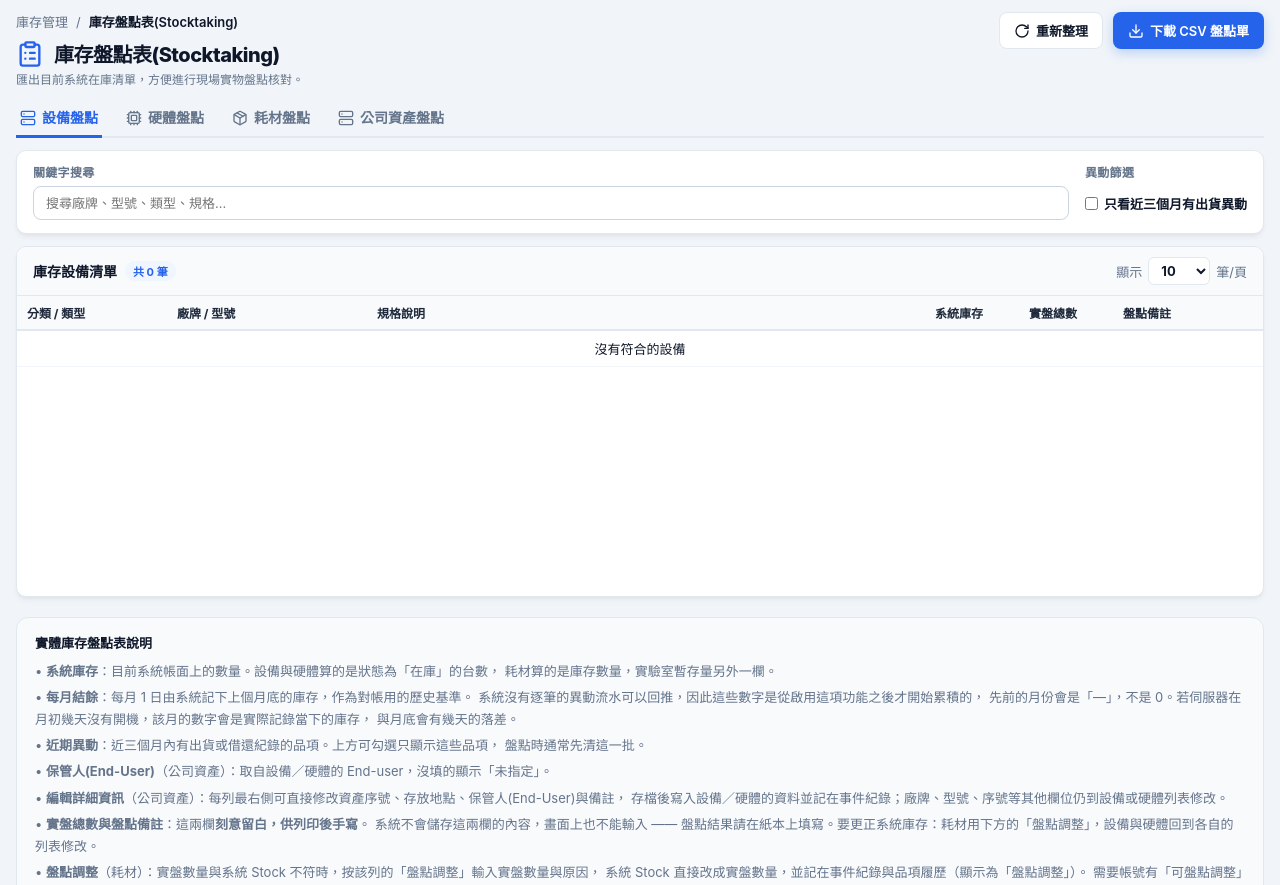
Scenario: 盤點表 > 公司資產 > 編輯詳細資訊 › 編號沒改、只改其他欄位：不查重，既有撞號也不擋
Click the text "公司資產盤點": (391, 118) [338,109,444,126]
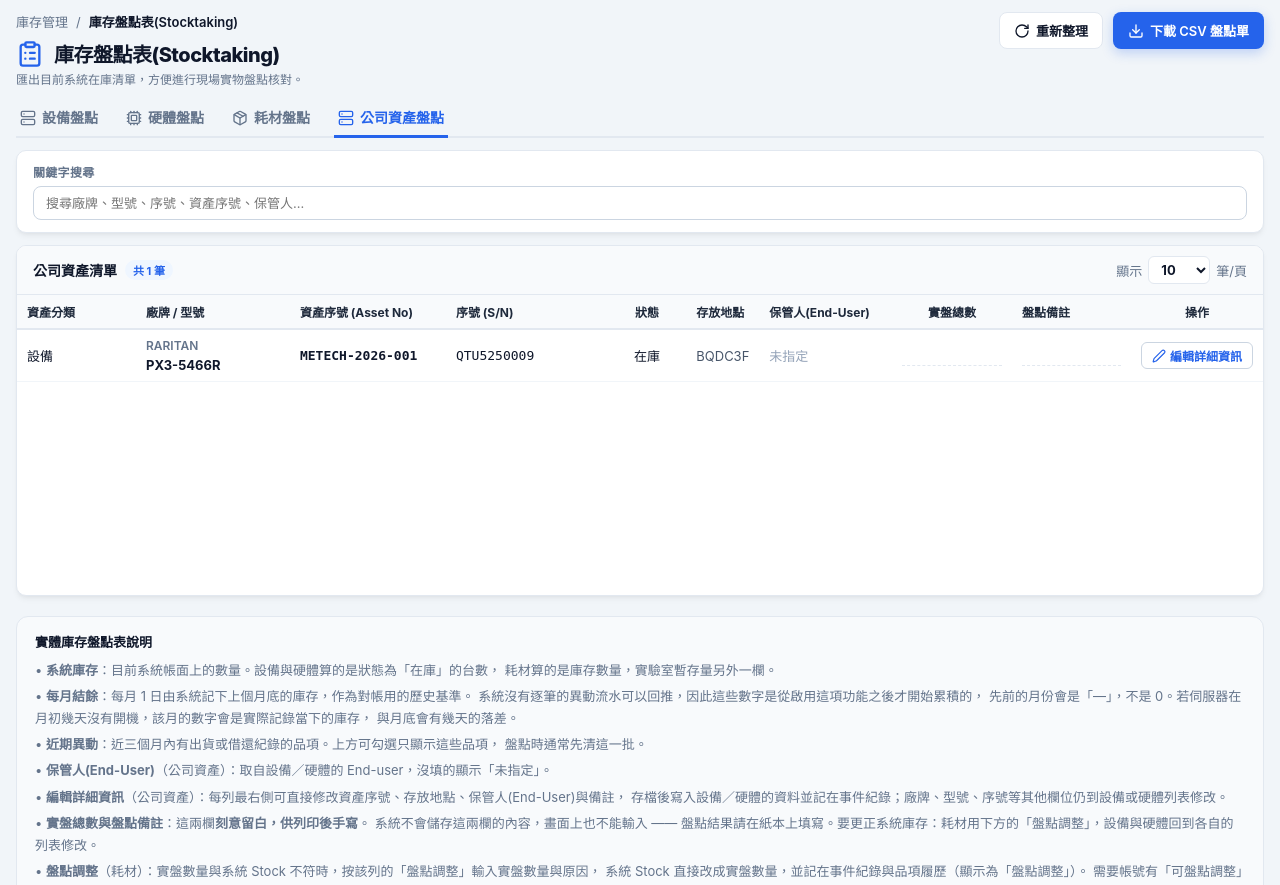
Expected: the text "QTU5250009" is shown, [446,329,608,382]
Click the button "編輯詳細資訊": (1197, 356) [1141,342,1253,369]
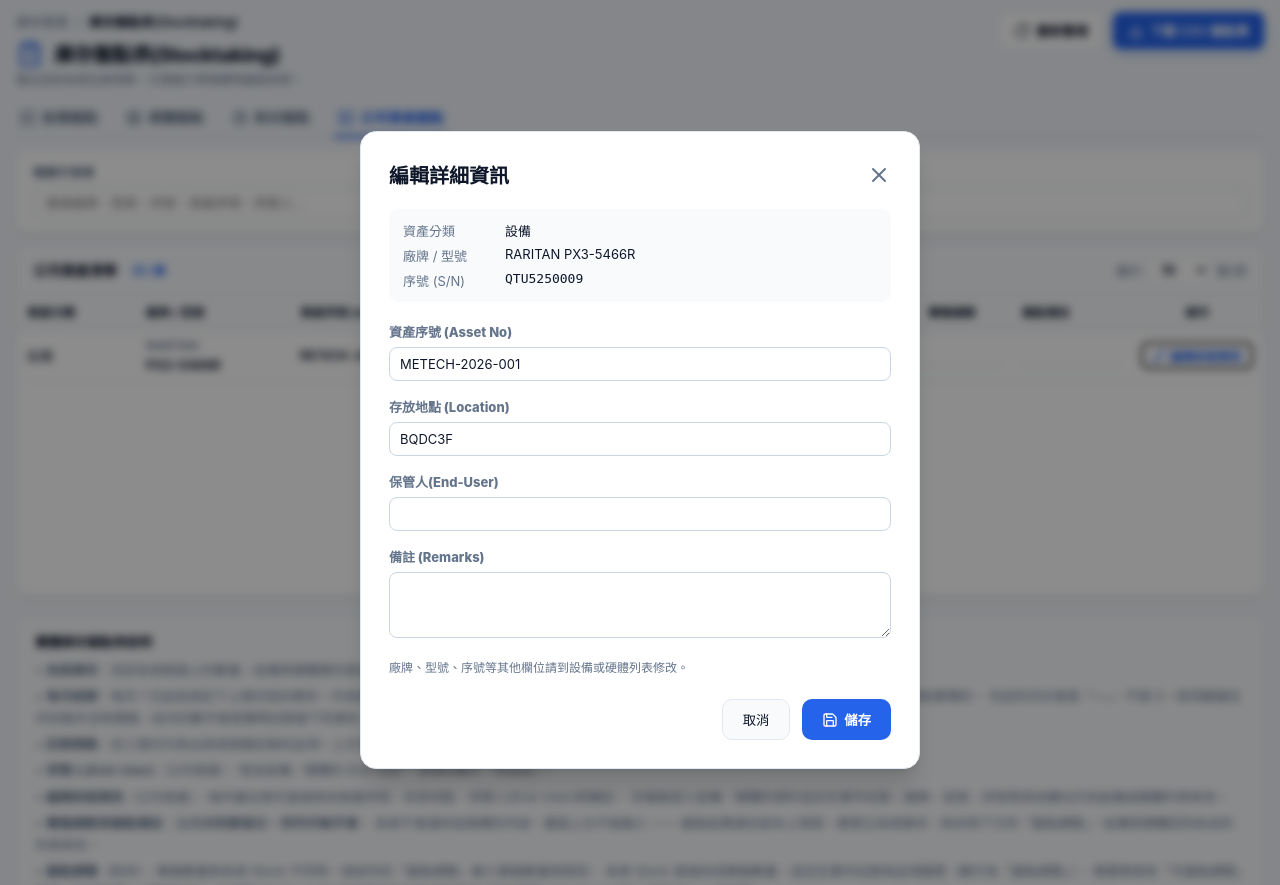
In the field labelled "存放地點 (Location)": (640, 439) [389,422,891,456], type "-A"
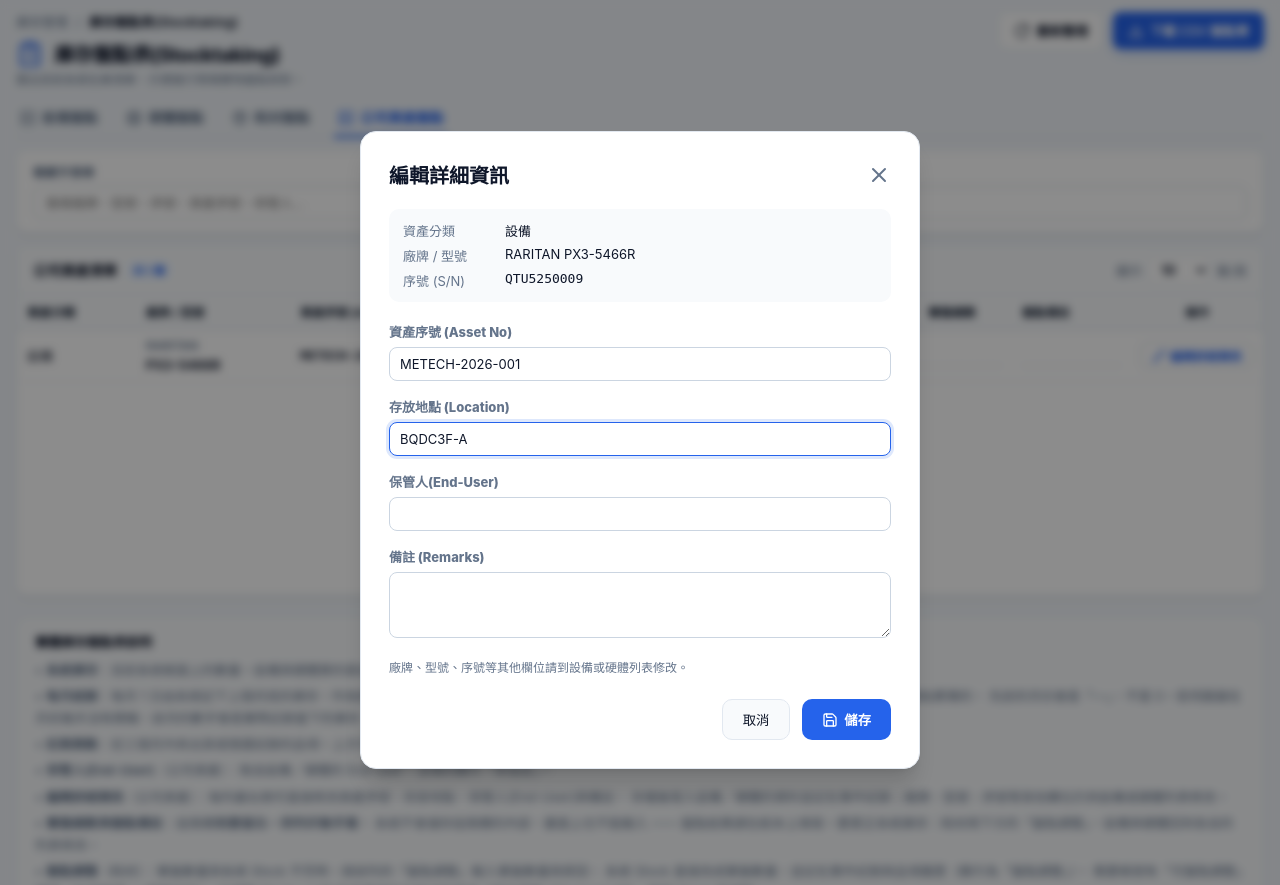
Click the button "儲存": (847, 720) [802,699,891,740]
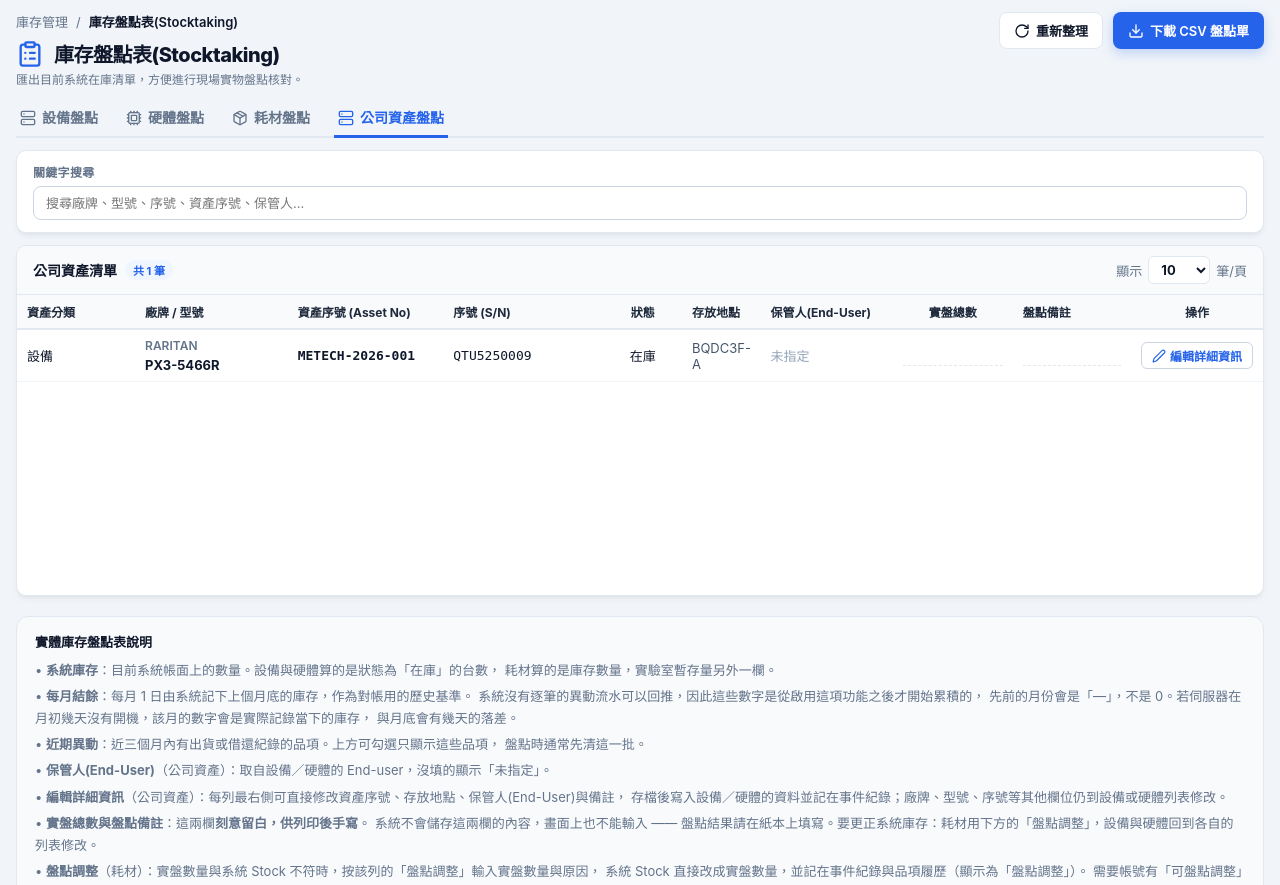
Expected: the dialog is gone
